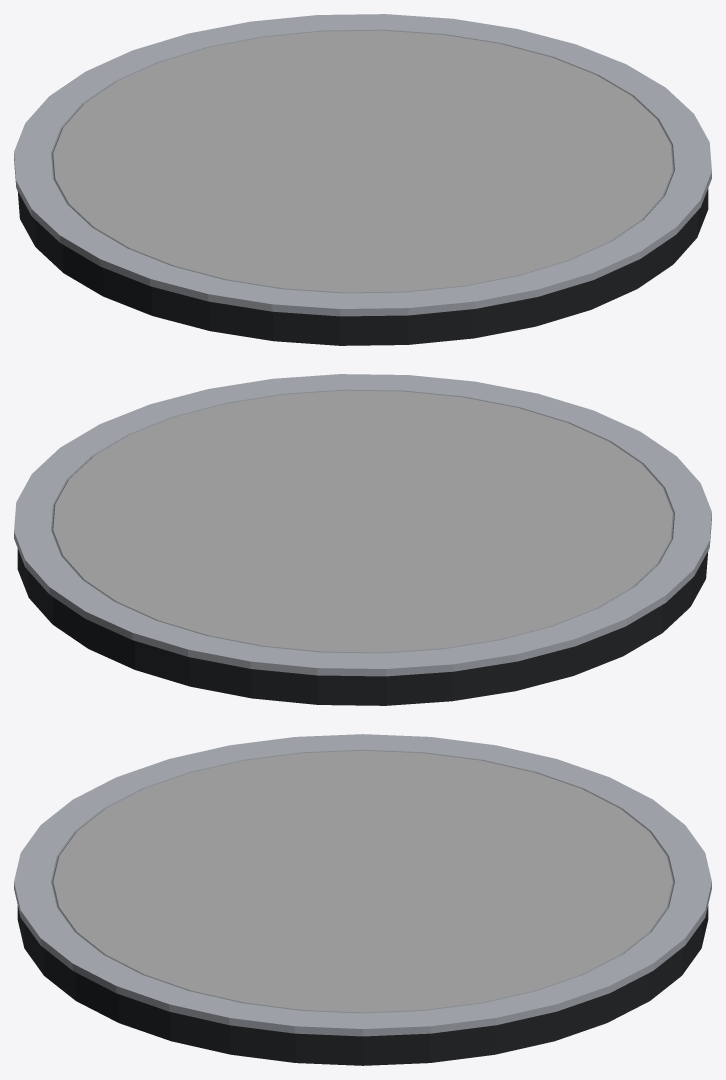
Rendered from SM_Prop_Car_Display_Platform_01.fbx.
3 views of the same model, one above another, from view 1: azimuth 30°, elevation 25°; view 2: azimuth 150°, elevation 25°; view 3: azimuth 270°, elevation 25° (orthographic).
Visible parts, largest first — view 1: SM_Prop_Car_Display_Platform_01; view 2: SM_Prop_Car_Display_Platform_01; view 3: SM_Prop_Car_Display_Platform_01.
Part boxes in pixels (<box>): SM_Prop_Car_Display_Platform_01: <box>14,14,711,345</box>; SM_Prop_Car_Display_Platform_01: <box>14,374,711,705</box>; SM_Prop_Car_Display_Platform_01: <box>14,734,711,1065</box>.
Bounding box in the file's own units: 655 × 39.66 × 655.
